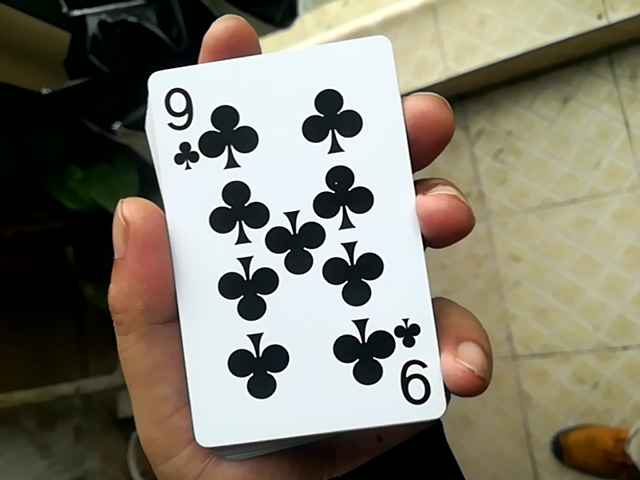mh 9: (130, 40, 452, 449)
